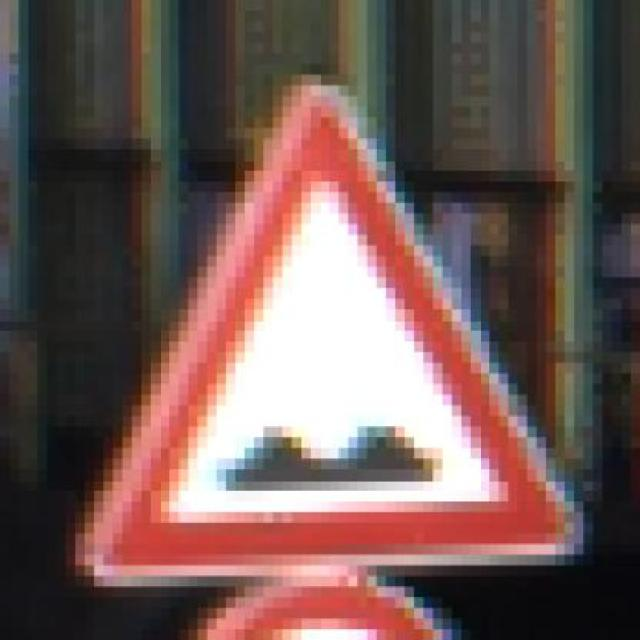Uneven Road: (56, 64, 593, 576)
